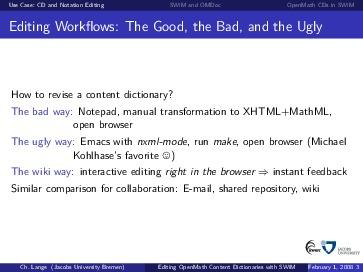paragraph: (3, 70, 357, 204)
title: (7, 14, 330, 37)
